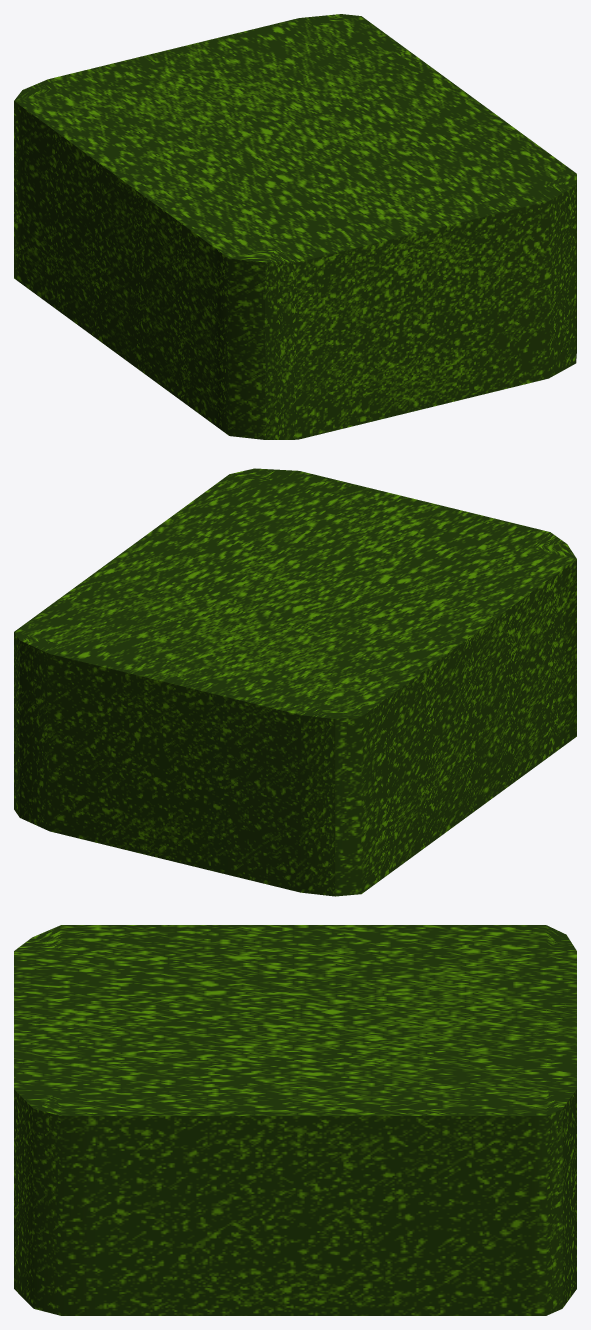
The model's file is platform4.fbx.
3 views of the same model, one above another, from view 1: azimuth 30°, elevation 25°; view 2: azimuth 150°, elevation 25°; view 3: azimuth 270°, elevation 25° (orthographic). The views are drawn at different scales.
Parts seen in each view (by area): view 1: pCube3; view 2: pCube3; view 3: pCube3.
Boxes of the visible parts, x1,y1,x2,y2 form: pCube3: (14,14,576,439); pCube3: (14,468,576,896); pCube3: (14,925,576,1315).
Size of the model in its own units: 427 by 208 by 531.
1 material, 1 textured.
